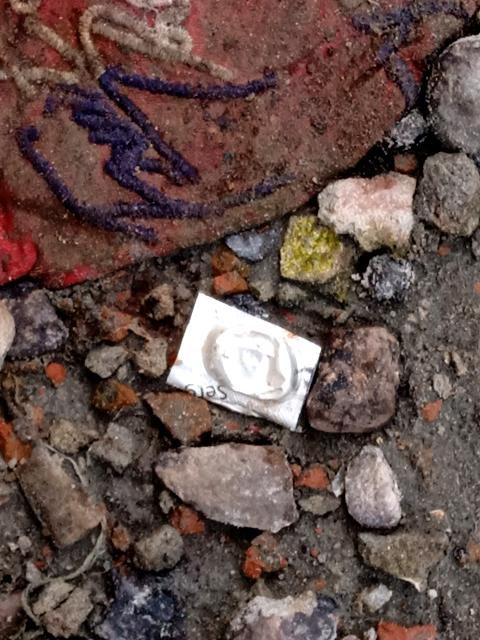medicine: (151, 284, 332, 442)
